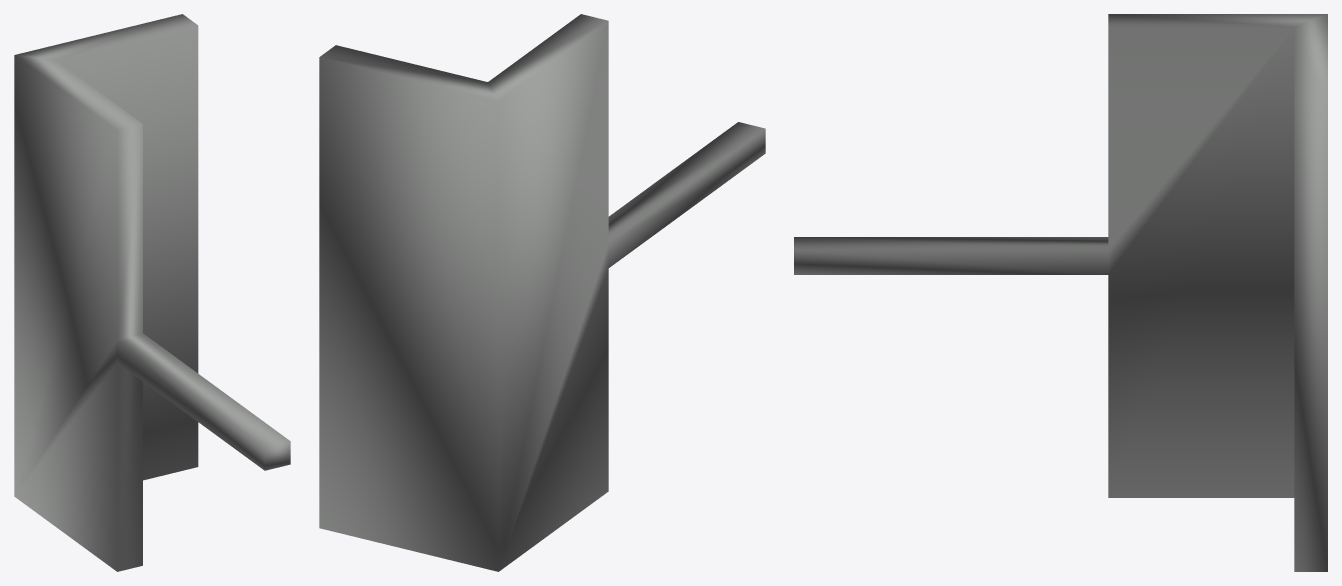
File: Aerialway_Cab.obj
3 views of the same model, side by side, from view 1: azimuth 30°, elevation 25°; view 2: azimuth 150°, elevation 25°; view 3: azimuth 270°, elevation 25° (orthographic). The views are drawn at different scales.
Visible parts, largest first — view 1: Aerialway_Cab; view 2: Aerialway_Cab; view 3: Aerialway_Cab.
Part boxes in pixels (<box>): Aerialway_Cab: <box>14,14,290,571</box>; Aerialway_Cab: <box>319,14,765,571</box>; Aerialway_Cab: <box>794,14,1327,571</box>.
Bounding box in the file's own units: 0.3904 × 0.9788 × 1.01.
Materials: 1 (1 with a texture image).
